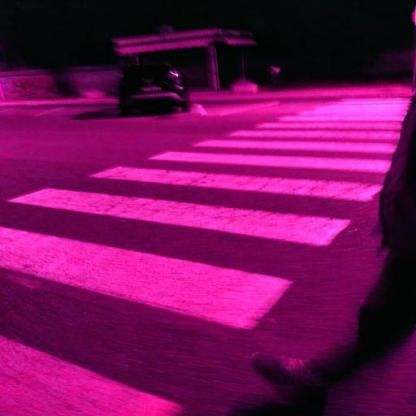crosswalk: (86, 148, 396, 207)
